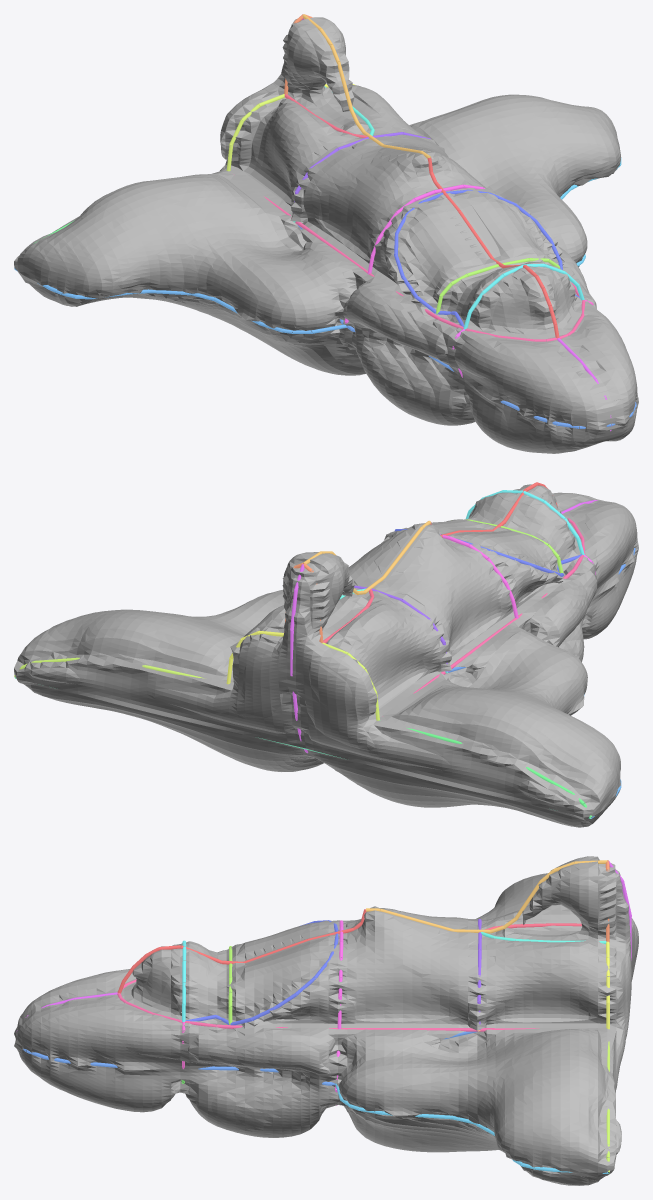
File: t2f_fighter.gltf
3 views of the same model, one above another, from view 1: azimuth 30°, elevation 25°; view 2: azimuth 150°, elevation 25°; view 3: azimuth 270°, elevation 25° (orthographic). The views are drawn at different scales.
Bounding box in the file's own units: 0.7035 × 0.3067 × 0.6796.
